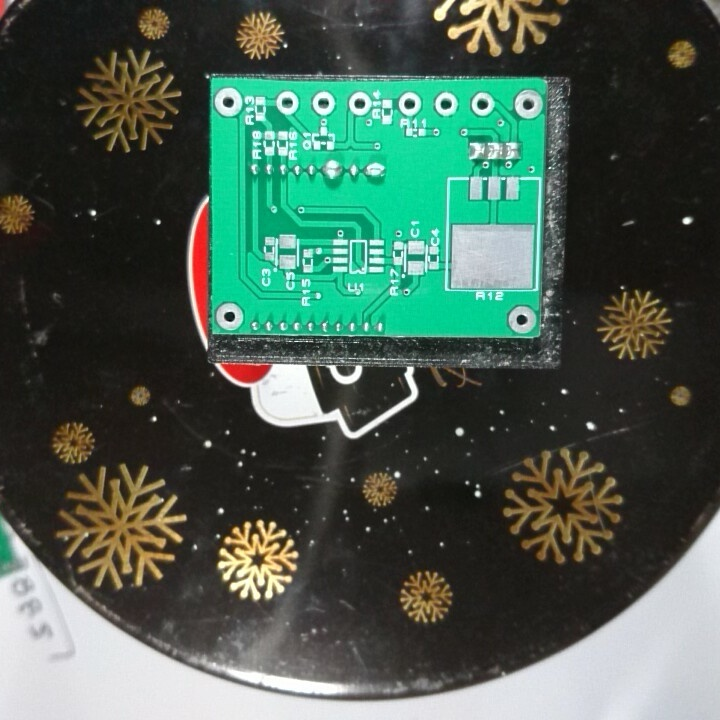F: (512, 88, 544, 120), (505, 303, 537, 335), (213, 86, 243, 120), (214, 301, 246, 332), (468, 89, 496, 117), (274, 90, 302, 118), (395, 91, 424, 118), (433, 91, 459, 119), (345, 90, 374, 115), (311, 91, 339, 115)
P: (319, 158, 345, 184), (362, 159, 388, 183)
